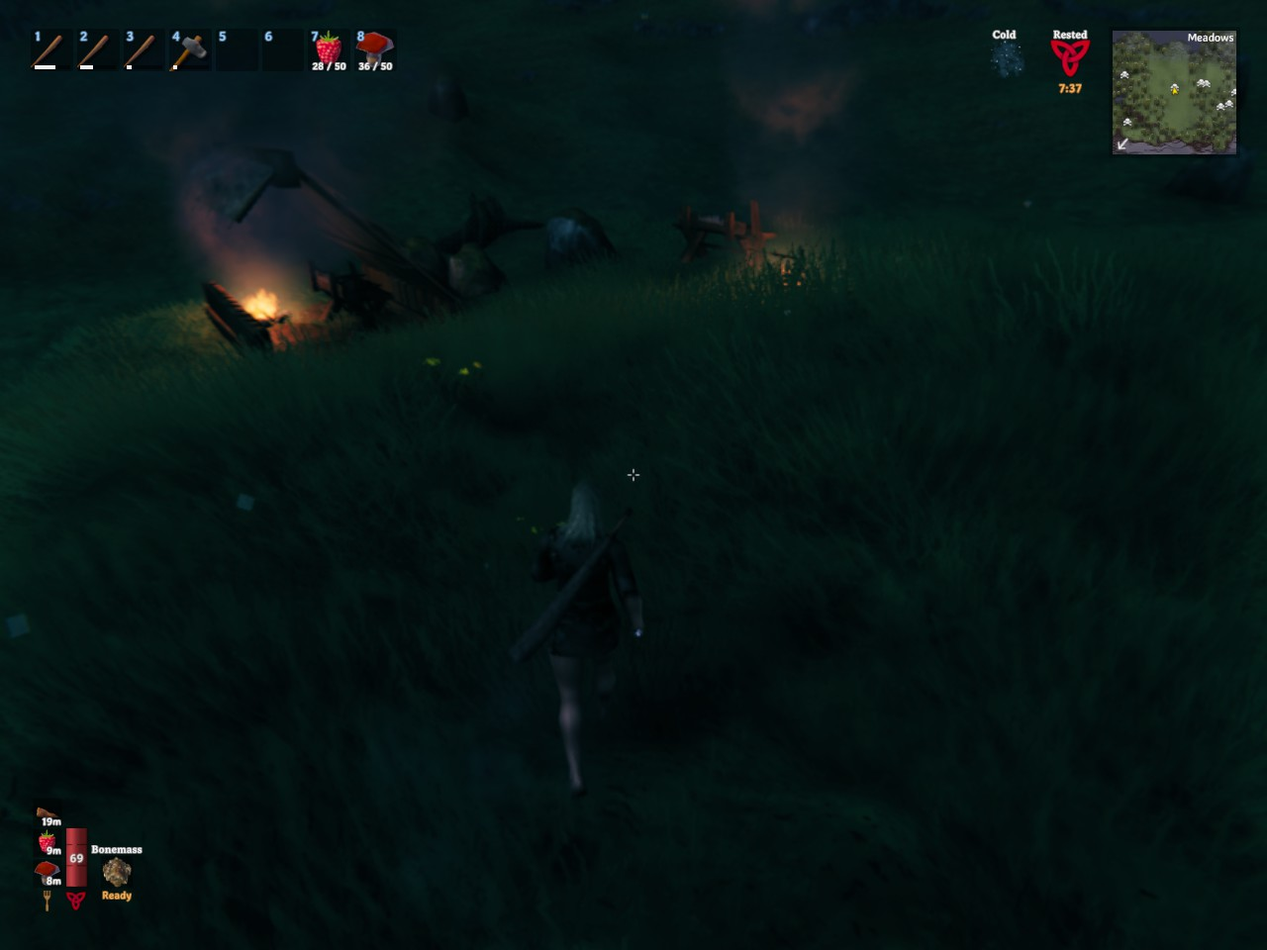Rested Buff: (1043, 22, 1102, 104)
